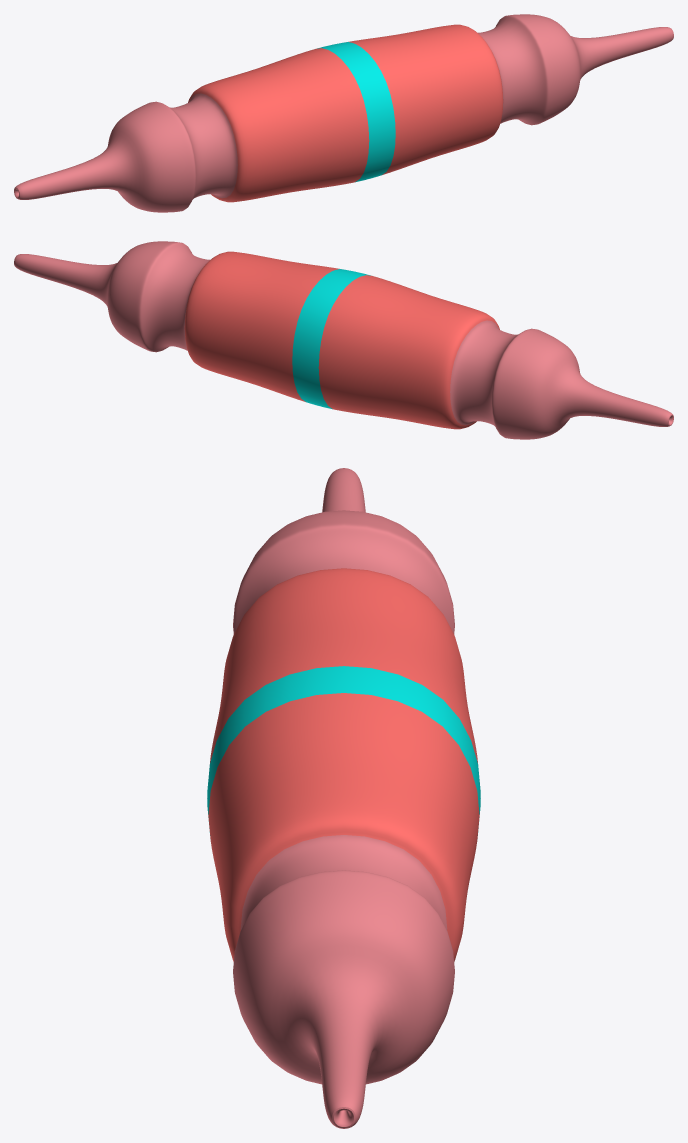
File: armm (1).fbx
3 renders of one model, top to bottom at view 1: azimuth 30°, elevation 25°; view 2: azimuth 150°, elevation 25°; view 3: azimuth 270°, elevation 25°, orthographic. The views are drawn at different scales.
Visible parts, largest first — view 1: arm; view 2: arm; view 3: arm.
Boxes of the visible parts, box(x1,y1,x2,y2) form: arm: box(14, 14, 673, 212); arm: box(14, 241, 673, 439); arm: box(207, 468, 480, 1128).
Size of the model in its own units: 255 by 46.19 by 46.19.
